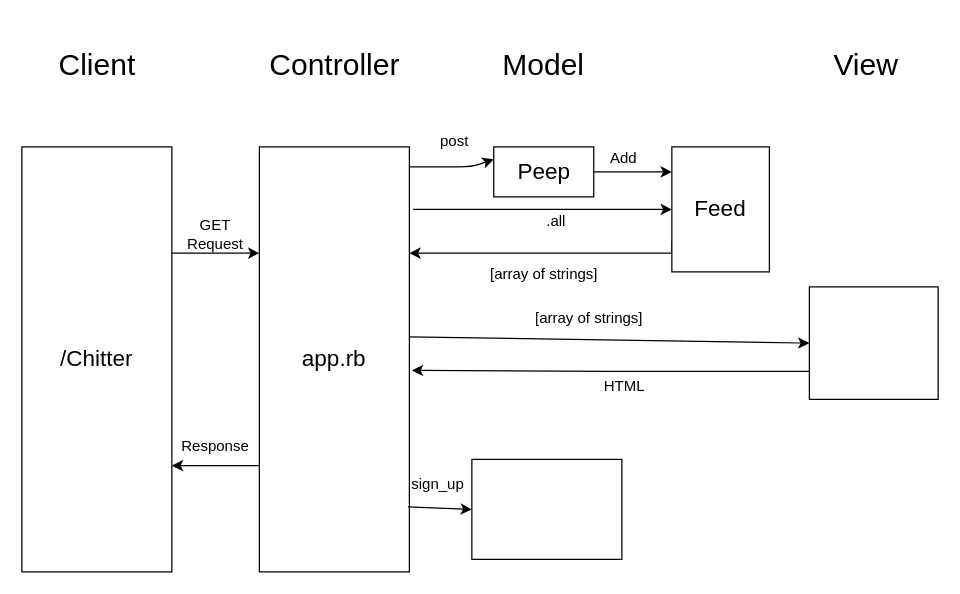
The diagram is 960 pixels wide and 594 high, and some of its shapes have lost their labels. The shapes that lost their labels are listed below. From the top down, each one's centre as x and y in pixels, then its label:
At [873,342]: "erb chitter".
At [546,508]: "UserBase".
